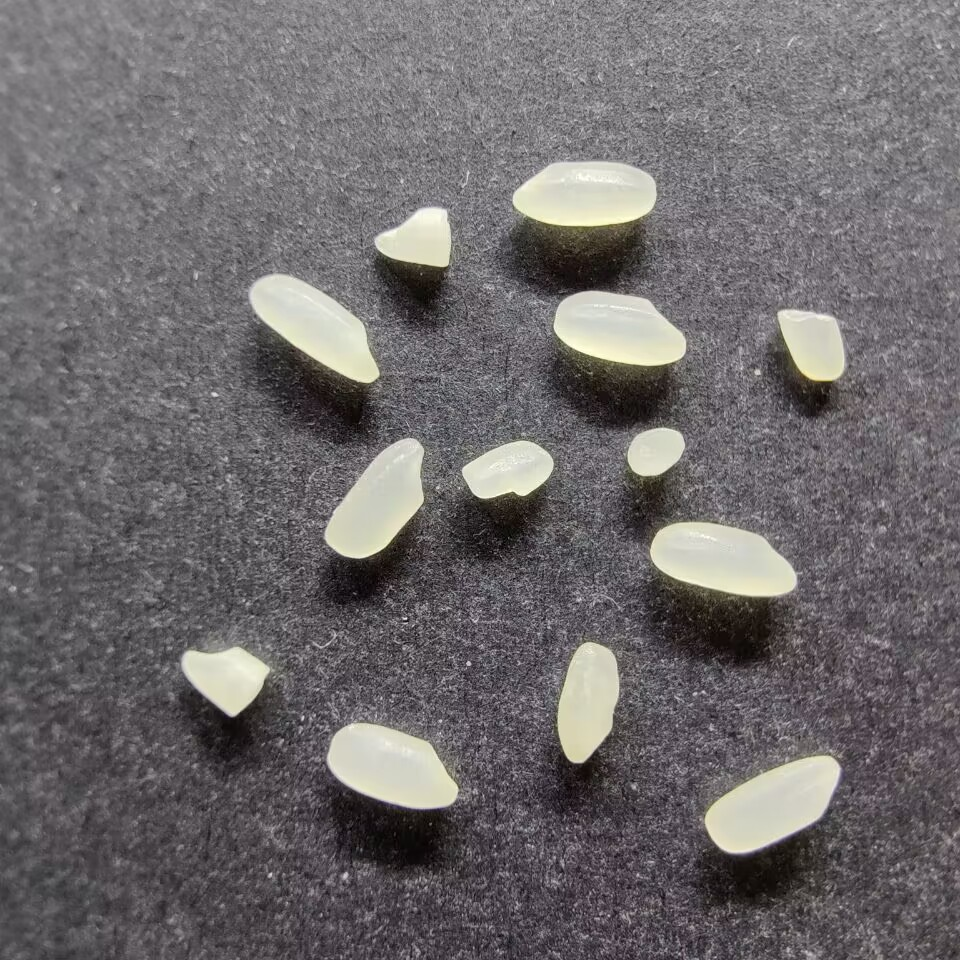broken: (181, 646, 269, 717), (460, 440, 555, 500), (777, 310, 845, 382), (374, 207, 451, 267), (625, 428, 686, 477)
rice: (249, 273, 381, 384), (704, 755, 841, 854), (323, 437, 426, 559), (326, 722, 459, 810), (650, 522, 796, 596), (553, 291, 687, 367), (513, 161, 656, 226), (556, 642, 620, 764)
